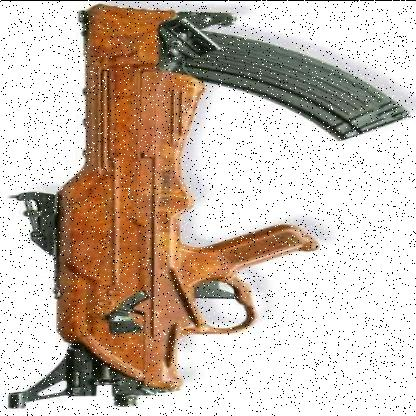rifle: (2, 3, 396, 409)
